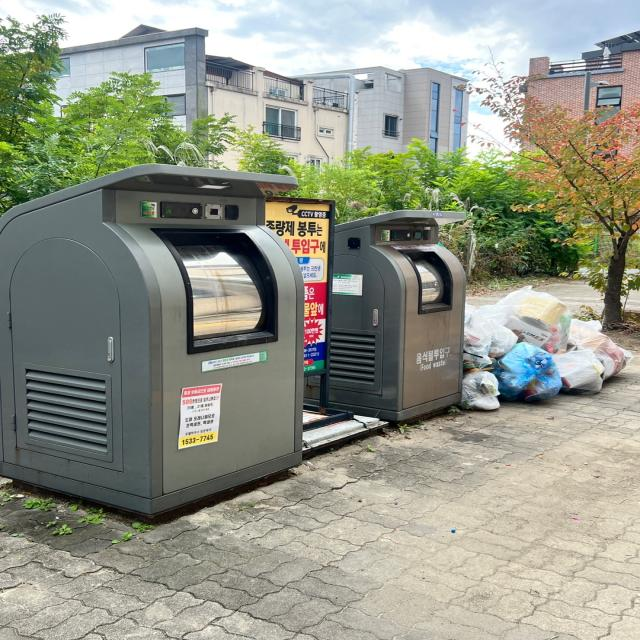CleanNet: (0, 159, 320, 524), (326, 196, 486, 426)
General Waste: (452, 293, 515, 420), (493, 277, 572, 339), (499, 343, 574, 408), (556, 326, 630, 390)
